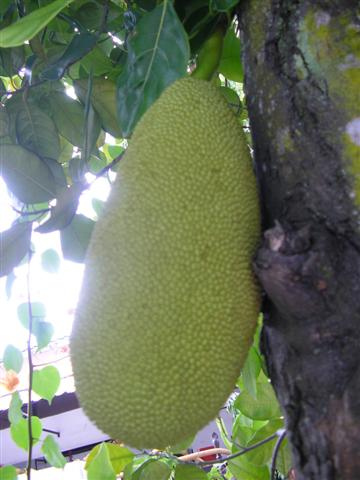jackfruit: (67, 24, 268, 453)
